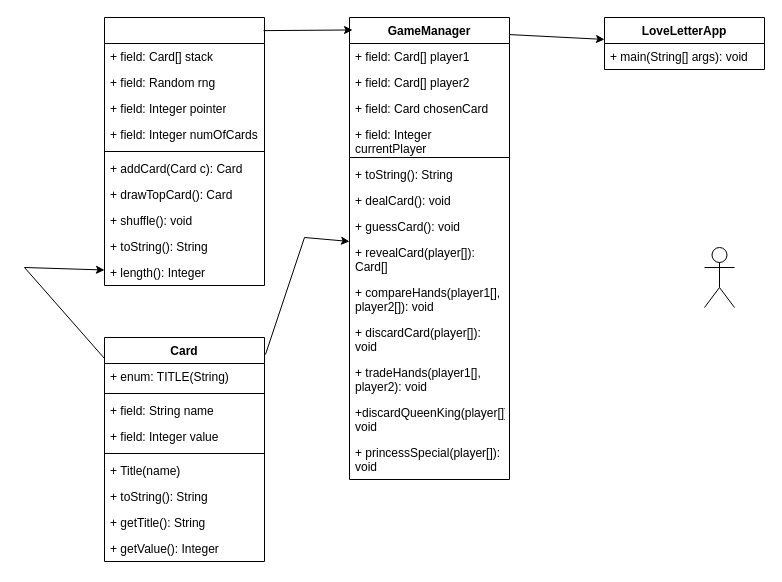
Image size: 782x582. Some labels were removed from this diagram. Each missing label, with the box of its shape:
Actor: (704, 246, 734, 308)
DynamicCardArray: (104, 16, 264, 286)
